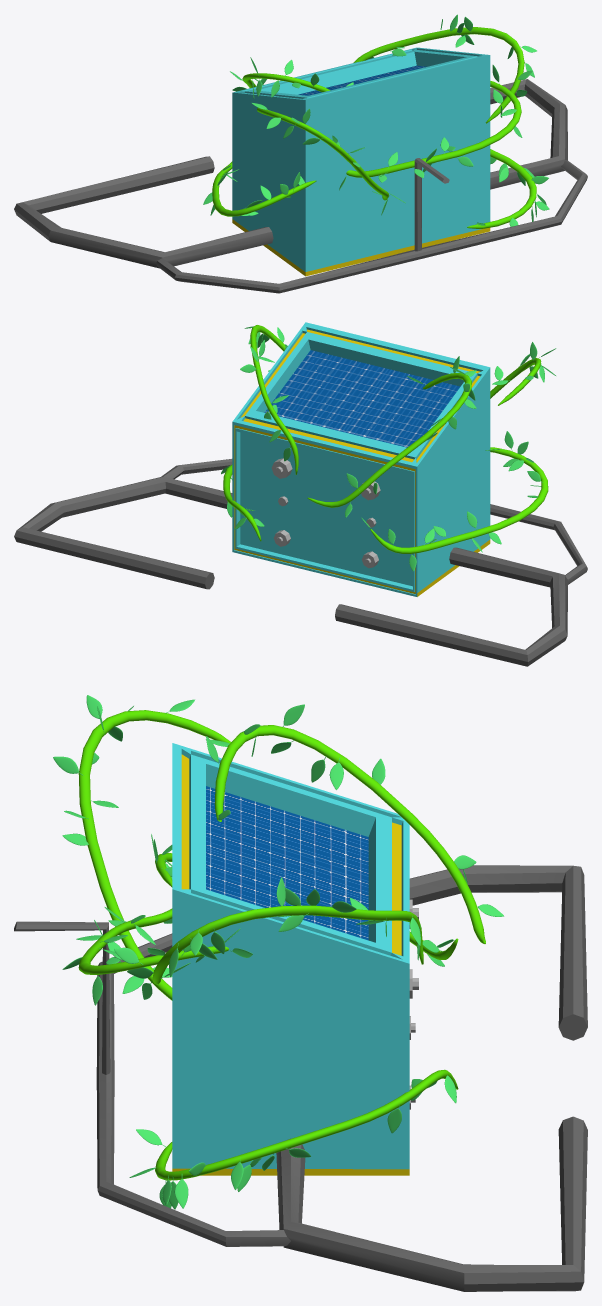
The model's file is Deco_Carregador.fbx.
3 views of the same model, one above another, from view 1: azimuth 30°, elevation 25°; view 2: azimuth 150°, elevation 25°; view 3: azimuth 270°, elevation 25° (orthographic). The views are drawn at different scales.
Parts seen in each view (by area): view 1: Cube, BézierCurve; view 2: Cube, BézierCurve; view 3: Cube, BézierCurve.
Boxes of the visible parts, x1,y1,x2,y2 form: Cube: (14,47,587,293); BézierCurve: (212,27,536,228); Cube: (14,322,587,666); BézierCurve: (223,325,548,553); Cube: (14,743,587,1291); BézierCurve: (78,710,485,1180).
Size of the model in its own units: 417 by 246 by 150.
Materials: 7 (1 with a texture image).
